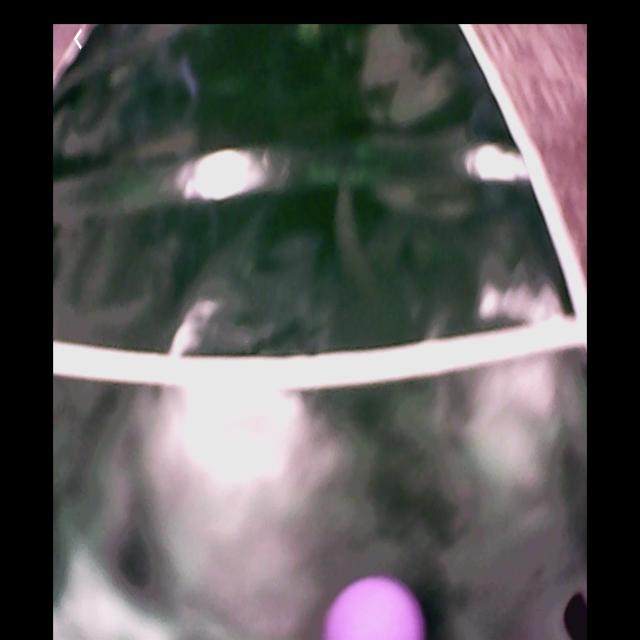ball: (327, 575, 423, 640)
